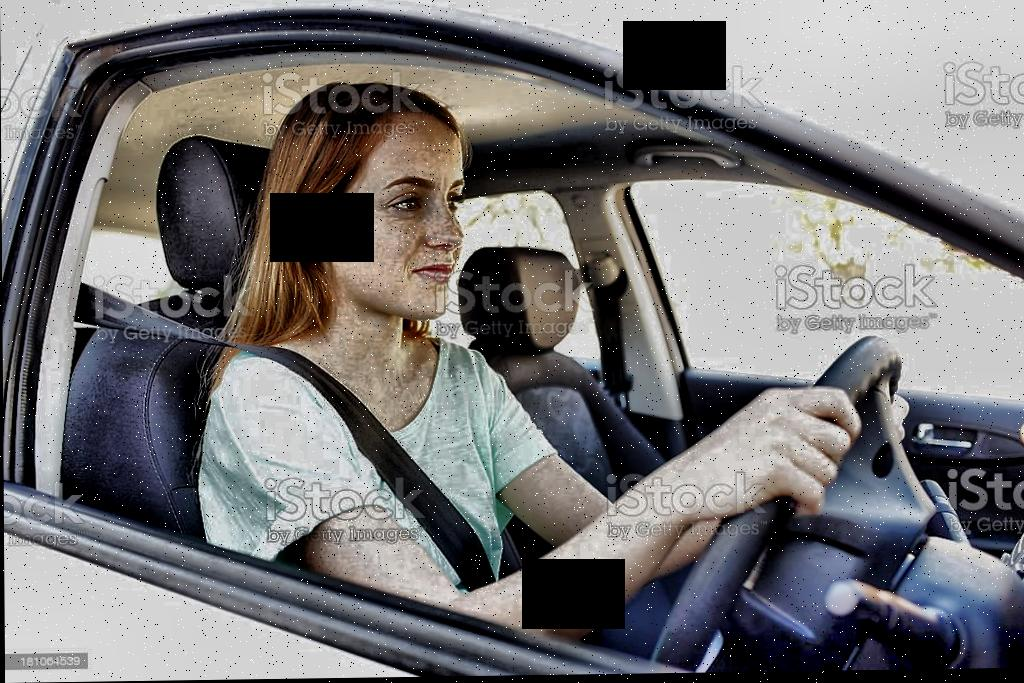seatbelt: (73, 275, 496, 589)
